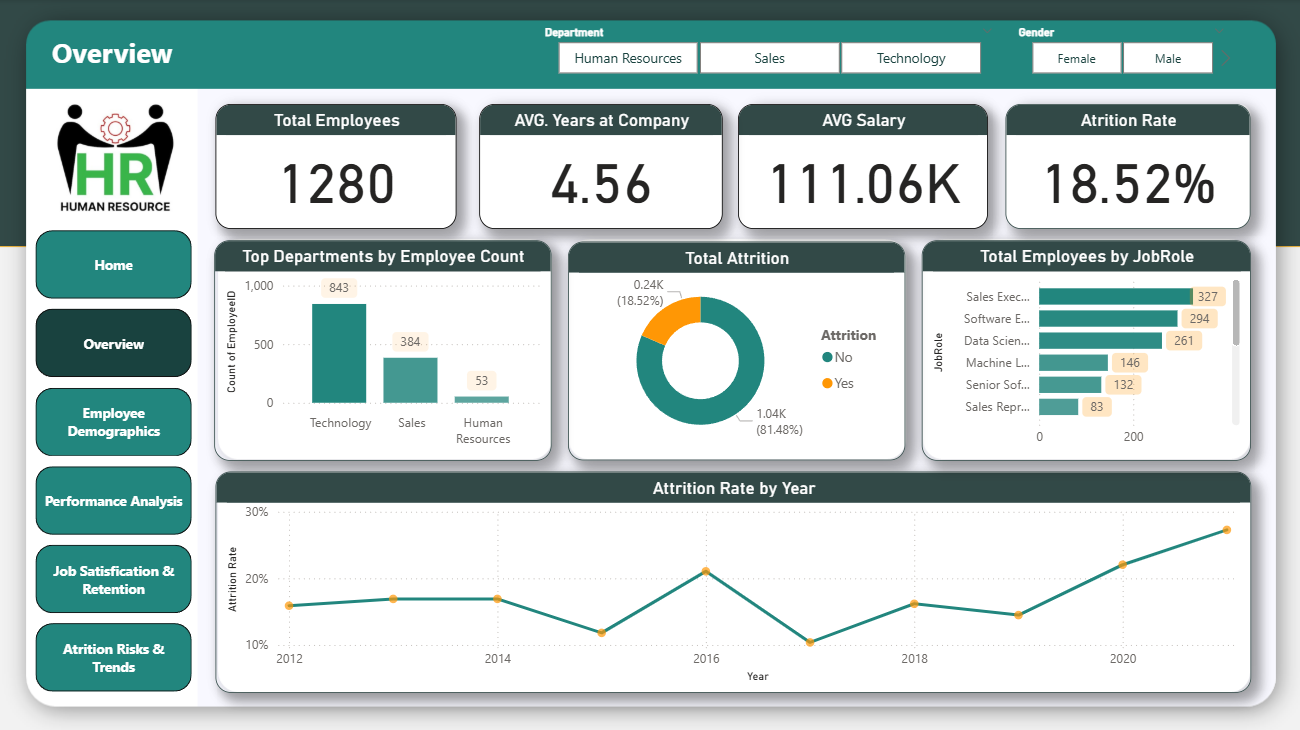

This screenshot's page, from the dashboard's own definition file:
{"tool":"powerbi","page":{"name":"Overview","canvas":[1280,720],"ordinal":1},"visuals":[{"type":"card","title":"Total Employees ","fields":{"Values":["Count(PerformanceRatings.EmployeeID)"]},"box":[212.5,102.5,236.2,122.5],"z":0},{"type":"card","title":"AVG Salary","fields":{"Values":["Avg(PerformanceRatings.Employee.Salary)"]},"box":[725,102.5,245,122.5],"z":1000},{"type":"card","title":"AVG. Years at Company","fields":{"Values":["Avg(Employee.YearsAtCompany)"]},"box":[471.2,102.5,238.8,122.5],"z":2000},{"type":"card","title":"Atrition Rate","fields":{"Values":["_Measures.Attrition Rate"]},"box":[986.2,102.5,240,122.5],"z":3000},{"type":"clusteredColumnChart","title":"Top Departments by Employee Count","fields":{"Y":["Count(PerformanceRatings.EmployeeID)"],"Category":["Department.Department"]},"box":[212.3,236.8,330.1,216],"z":4000},{"type":"donutChart","title":"Total Attrition","fields":{"Category":["Employee.Attrition"],"Y":["Count(PerformanceRatings.EmployeeID)"]},"box":[558,237,330,214],"z":5000},{"type":"lineChart","fields":{"Category":["Employee.Year"],"Y":["_Measures.Attrition Rate"]},"box":[212.9,462.9,1014.3,217.1],"z":6000},{"type":"slicer","fields":{"Values":["Employee.Gender"]},"box":[986.5,20.9,227,58.9],"z":7000},{"type":"textbox","box":[47.9,29.4,330.1,50.3],"z":8000},{"type":"slicer","fields":{"Values":["Department.Department"]},"box":[522.7,20.9,463.8,58.9],"z":9000},{"type":"clusteredBarChart","fields":{"Category":["Employee.JobRole"],"Y":["_Measures.Total Employees"]},"box":[904.3,236.8,322.7,216],"z":10000},{"type":"pageNavigator","box":[36.7,226.7,153.3,453.3],"z":11000},{"type":"image","box":[41.7,83.4,142.3,146],"z":12000}]}

Visuals, with their boxes in screenshot pixels (x1, y1, x2, y2), scaled from the page's 1280x720 canvas onto the 1300x730 screenshot:
"Total Employees " card: (216,104,456,228)
"AVG Salary" card: (736,104,985,228)
"AVG. Years at Company" card: (479,104,721,228)
"Atrition Rate" card: (1002,104,1245,228)
"Top Departments by Employee Count" clusteredColumnChart: (216,240,551,459)
"Total Attrition" donutChart: (567,240,902,457)
lineChart - Employee.Year x _Measures.Attrition Rate: (216,469,1246,689)
slicer - Employee.Gender: (1002,21,1232,81)
textbox: (49,30,384,81)
slicer - Department.Department: (531,21,1002,81)
clusteredBarChart - Employee.JobRole x _Measures.Total Employees: (918,240,1246,459)
pageNavigator: (37,230,193,689)
image: (42,85,187,233)
